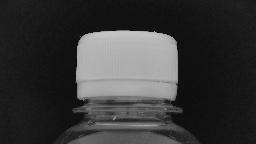Good Cap: (69, 25, 185, 119)
